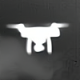plane: (4, 21, 70, 55)
